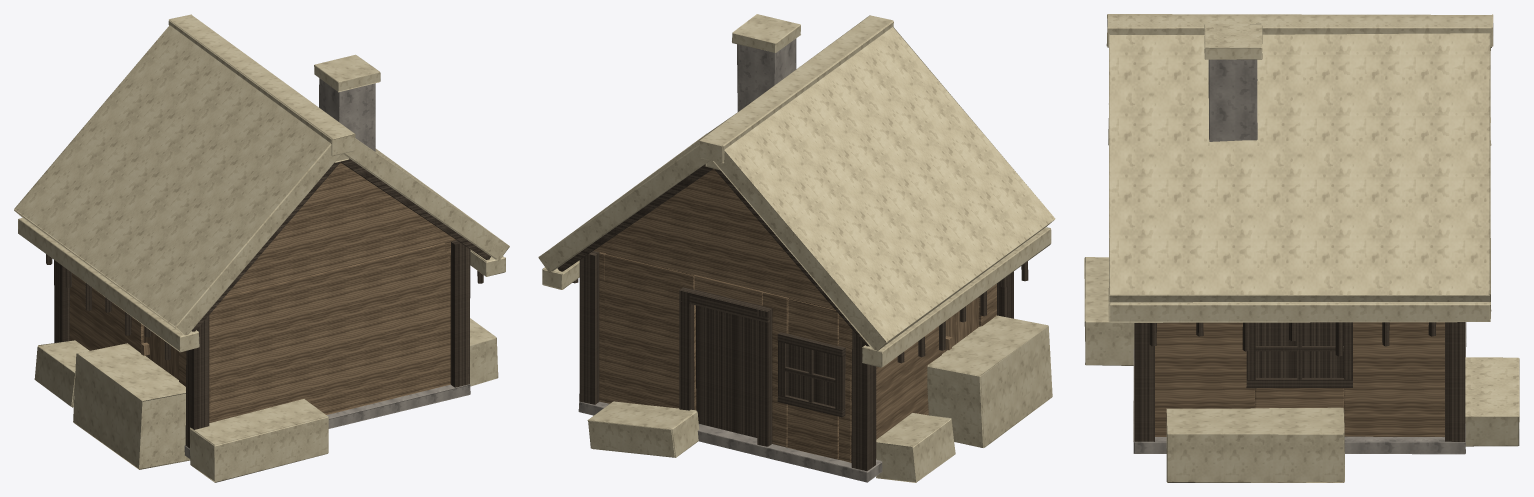
The model's file is snow_cabin.glb.
The picture shows the model from 3 angles, left to right: view 1: azimuth 30°, elevation 25°; view 2: azimuth 150°, elevation 25°; view 3: azimuth 270°, elevation 25°; orthographic projection. The views are drawn at different scales.
Parts seen in each view (by area): view 1: SnowCabin, Door; view 2: SnowCabin, Door; view 3: SnowCabin.
Boxes of the visible parts, left/top/right/bottom form: SnowCabin: left=14, top=14, right=509, bottom=482; Door: left=141, top=326, right=178, bottom=379; SnowCabin: left=538, top=14, right=1055, bottom=482; Door: left=942, top=297, right=978, bottom=353; SnowCabin: left=1084, top=14, right=1519, bottom=482.
Bounding box in the file's own units: 6.27 × 5.36 × 5.5.
4 materials, 4 textured.
